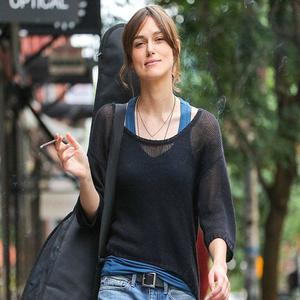cigarette: (37, 131, 70, 151)
